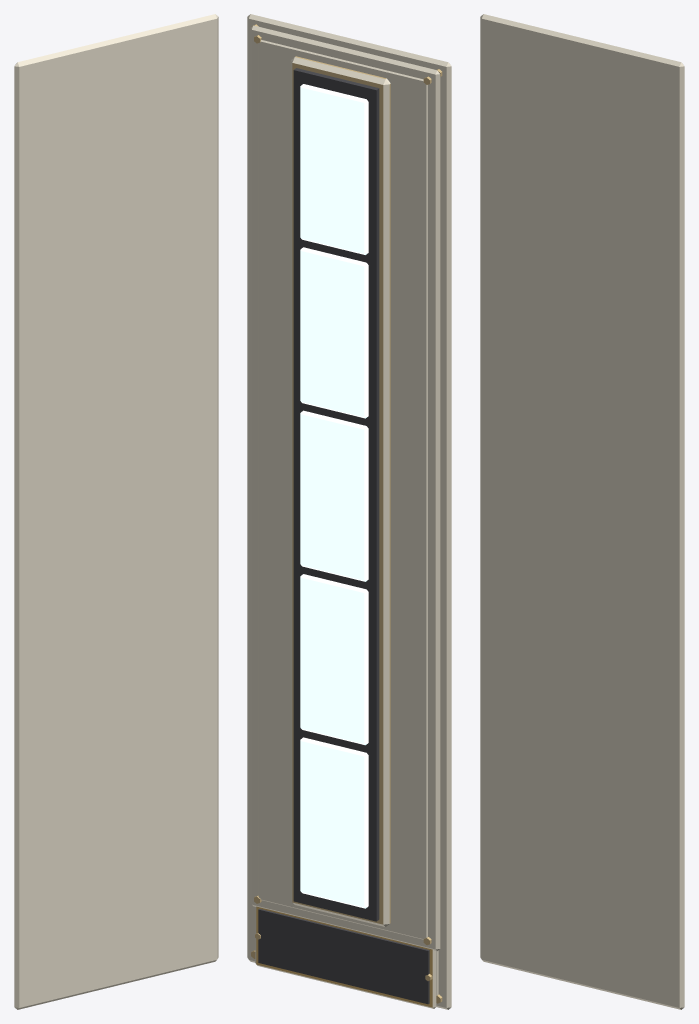
File: Disp_Bar_1x4.fbx
The picture shows the model from 3 angles, left to right: view 1: azimuth 30°, elevation 25°; view 2: azimuth 150°, elevation 25°; view 3: azimuth 330°, elevation 25°; orthographic projection.
Visible parts, largest first — view 1: Disp_Bar_1x4; view 2: Disp_Bar_1x4, Seg0.003, Seg2.003, Seg4.003, Seg1.003, Seg3.003; view 3: Disp_Bar_1x4.
Part boxes in pixels (x1=…): Disp_Bar_1x4: x1=14, y1=14, x2=218, y2=1009; Disp_Bar_1x4: x1=247, y1=14, x2=451, y2=1009; Seg0.003: x1=300, y1=737, x2=368, y2=908; Seg2.003: x1=300, y1=410, x2=368, y2=581; Seg4.003: x1=300, y1=84, x2=368, y2=254; Seg1.003: x1=300, y1=574, x2=368, y2=745; Seg3.003: x1=300, y1=247, x2=368, y2=418; Disp_Bar_1x4: x1=480, y1=14, x2=684, y2=1009.
Bounding box in the file's own units: 0.96 × 4.26 × 0.1512.
